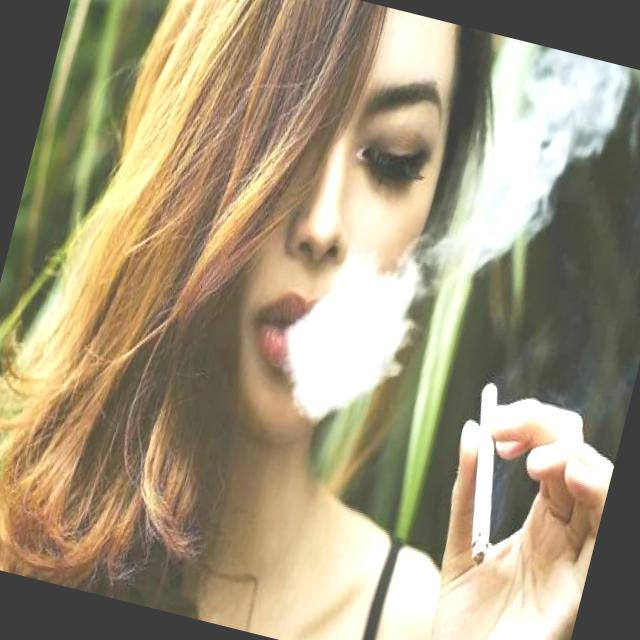cigarette: (436, 378, 530, 576)
